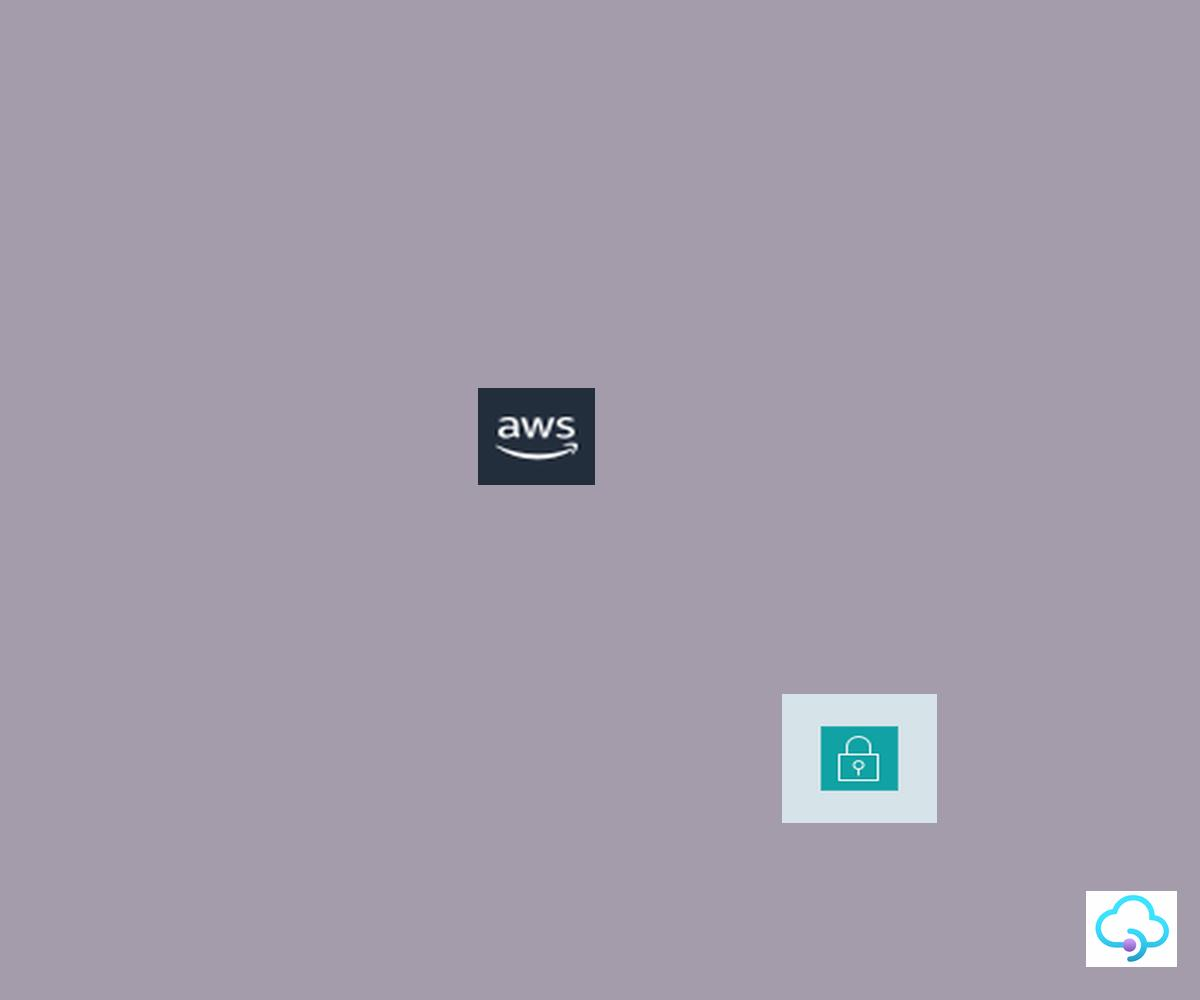AWS-Cloud-logo: (478, 388, 595, 485)
AWS-Private-subnet: (782, 694, 937, 823)
Azure_api_gateway: (1086, 891, 1177, 967)
